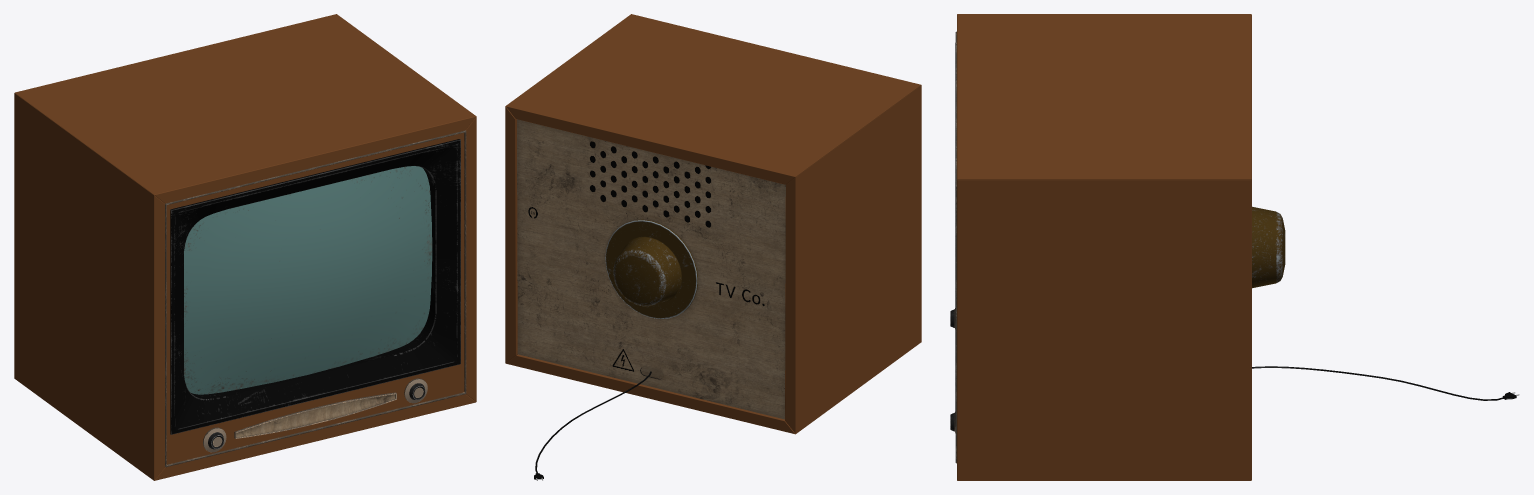
3 views of the same model, side by side, from view 1: azimuth 30°, elevation 25°; view 2: azimuth 150°, elevation 25°; view 3: azimuth 270°, elevation 25° (orthographic). The views are drawn at different scales.
Visible parts, largest first — view 1: Main Body, Screen, Screen Rim, Front Plate, Chrome Rim, Tape Slot, Tape Slot Rim, Knob Outter; view 2: Main Body, Rear Panel, CRT Hump; view 3: Main Body, CRT Hump, Chrome Rim.
Part boxes in pixels (<box>): Main Body: <box>14,14,476,480</box>; Screen: <box>184,166,432,394</box>; Screen Rim: <box>170,139,460,434</box>; Front Plate: <box>166,133,464,464</box>; Chrome Rim: <box>165,130,466,467</box>; Tape Slot: <box>236,394,395,437</box>; Tape Slot Rim: <box>234,392,396,438</box>; Knob Outter: <box>203,378,427,452</box>; Main Body: <box>505,14,921,434</box>; Rear Panel: <box>517,119,785,419</box>; CRT Hump: <box>605,219,697,318</box>; Main Body: <box>957,14,1251,480</box>; CRT Hump: <box>1252,206,1285,288</box>; Chrome Rim: <box>955,31,956,463</box>.
Bounding box in the file's own units: 283 × 244 × 411.
